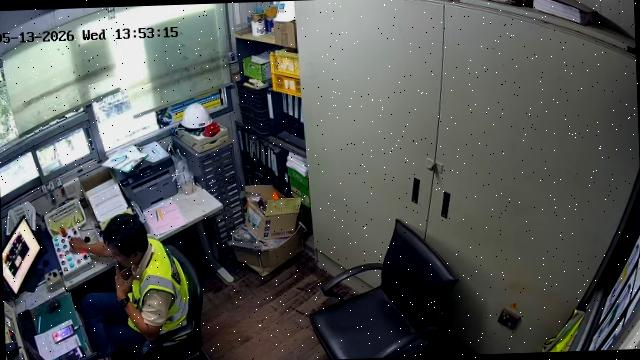Head: (104, 215, 148, 266)
People: (72, 215, 189, 359)
Phone: (58, 345, 86, 360), (52, 325, 74, 342)
